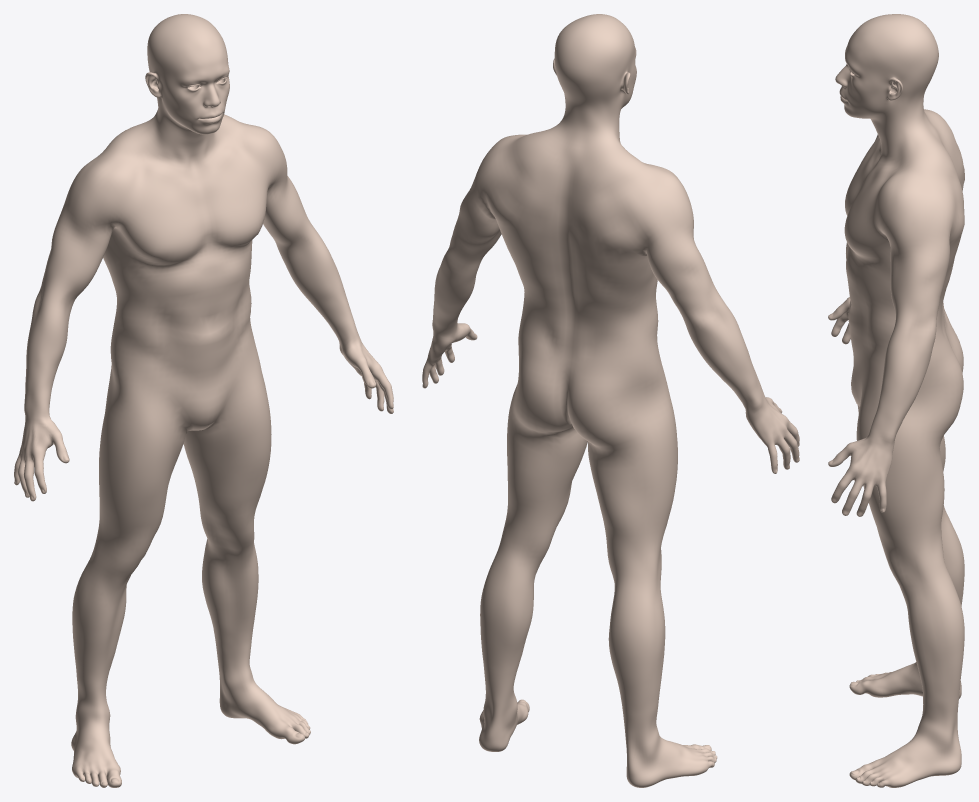
Rendered from male.glb.
3 views of the same model, side by side, from view 1: azimuth 30°, elevation 25°; view 2: azimuth 150°, elevation 25°; view 3: azimuth 270°, elevation 25° (orthographic).
Parts seen in each view (by area): view 1: GEO-body_male_realistic.001; view 2: GEO-body_male_realistic.001; view 3: GEO-body_male_realistic.001.
Boxes of the visible parts, x1=… form: GEO-body_male_realistic.001: x1=14, y1=14, x2=393, y2=787; GEO-body_male_realistic.001: x1=422, y1=14, x2=799, y2=787; GEO-body_male_realistic.001: x1=828, y1=14, x2=964, y2=787.
Size of the model in its own units: 0.9139 by 1.75 by 0.3014.
